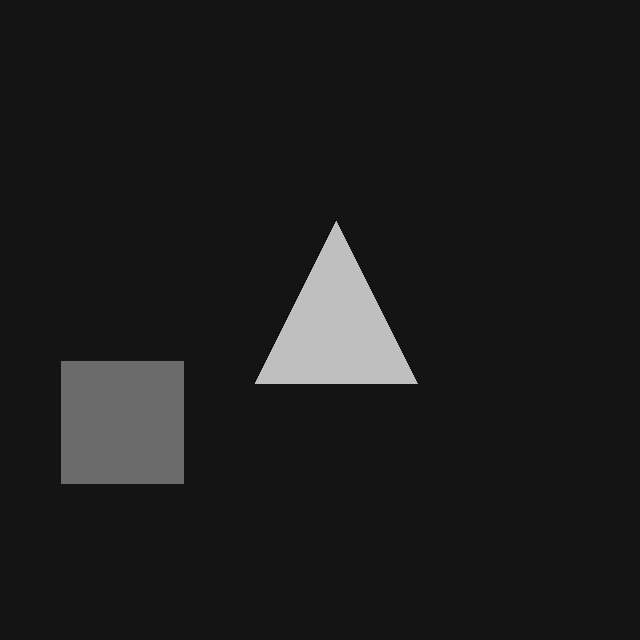square: (61, 361, 183, 483)
triangle: (255, 221, 417, 383)
